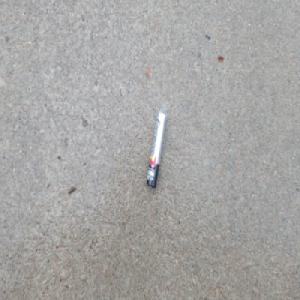Battery: (146, 111, 166, 191)
